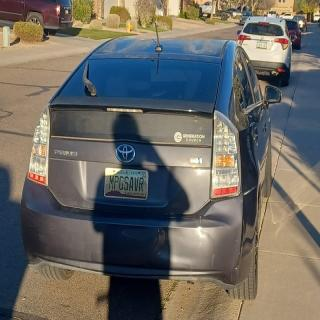license: (105, 168, 150, 201)
